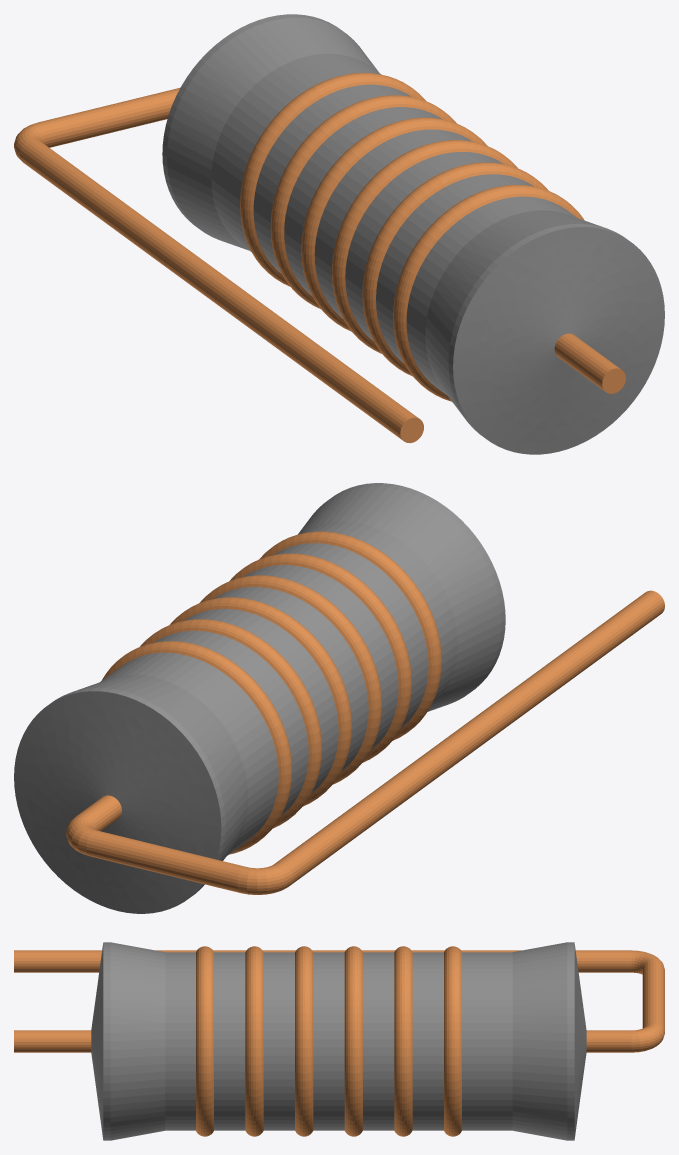
The model's file is L_Axial_L20.0mm_D8.0mm_P7.62mm_Vertical.glb.
The picture shows the model from 3 angles, top to bottom: view 1: azimuth 30°, elevation 25°; view 2: azimuth 150°, elevation 25°; view 3: azimuth 270°, elevation 25°; orthographic projection. The views are drawn at different scales.
Parts seen in each view (by area): view 1: Shape_IndexedFaceSet.002, Shape_IndexedFaceSet.018, Shape_IndexedFaceSet.025, Shape_IndexedFaceSet.017, Shape_IndexedFaceSet.004, Shape_IndexedFaceSet.005, Shape_IndexedFaceSet.015, Shape_IndexedFaceSet.013, Shape_IndexedFaceSet.009, Shape_IndexedFaceSet.007, Shape_IndexedFaceSet.011, Shape_IndexedFaceSet.006 (+9 smaller); view 2: Shape_IndexedFaceSet.020, Shape_IndexedFaceSet.004, Shape_IndexedFaceSet.025, Shape_IndexedFaceSet.017, Shape_IndexedFaceSet.018, Shape_IndexedFaceSet.015, Shape_IndexedFaceSet.007, Shape_IndexedFaceSet.009, Shape_IndexedFaceSet.013, Shape_IndexedFaceSet.011, Shape_IndexedFaceSet.005, Shape_IndexedFaceSet.016 (+11 smaller); view 3: Shape_IndexedFaceSet.004, Shape_IndexedFaceSet.018, Shape_IndexedFaceSet.017, Shape_IndexedFaceSet.007, Shape_IndexedFaceSet.009, Shape_IndexedFaceSet.011, Shape_IndexedFaceSet.013, Shape_IndexedFaceSet.015, Shape_IndexedFaceSet.005, Shape_IndexedFaceSet.025, Shape_IndexedFaceSet.008, Shape_IndexedFaceSet.014 (+13 smaller).
Boxes of the visible parts, x1=… form: Shape_IndexedFaceSet.002: x1=453, y1=227, x2=664, y2=454; Shape_IndexedFaceSet.018: x1=167, y1=17, x2=378, y2=250; Shape_IndexedFaceSet.025: x1=19, y1=139, x2=419, y2=440; Shape_IndexedFaceSet.017: x1=211, y1=53, x2=381, y2=251; Shape_IndexedFaceSet.004: x1=425, y1=210, x2=603, y2=416; Shape_IndexedFaceSet.005: x1=406, y1=196, x2=576, y2=394; Shape_IndexedFaceSet.015: x1=253, y1=84, x2=411, y2=273; Shape_IndexedFaceSet.013: x1=284, y1=107, x2=442, y2=296; Shape_IndexedFaceSet.009: x1=345, y1=152, x2=503, y2=341; Shape_IndexedFaceSet.007: x1=376, y1=174, x2=533, y2=363; Shape_IndexedFaceSet.011: x1=314, y1=129, x2=472, y2=318; Shape_IndexedFaceSet.006: x1=393, y1=185, x2=584, y2=401; Shape_IndexedFaceSet.020: x1=14, y1=691, x2=221, y2=913; Shape_IndexedFaceSet.004: x1=298, y1=486, x2=501, y2=711; Shape_IndexedFaceSet.025: x1=275, y1=590, x2=664, y2=885; Shape_IndexedFaceSet.017: x1=100, y1=652, x2=278, y2=855; Shape_IndexedFaceSet.018: x1=73, y1=675, x2=248, y2=860; Shape_IndexedFaceSet.015: x1=154, y1=630, x2=308, y2=815; Shape_IndexedFaceSet.007: x1=273, y1=543, x2=428, y2=727; Shape_IndexedFaceSet.009: x1=243, y1=565, x2=398, y2=749; Shape_IndexedFaceSet.013: x1=184, y1=609, x2=338, y2=793; Shape_IndexedFaceSet.011: x1=214, y1=587, x2=368, y2=771; Shape_IndexedFaceSet.005: x1=304, y1=521, x2=457, y2=705; Shape_IndexedFaceSet.016: x1=102, y1=641, x2=291, y2=854; Shape_IndexedFaceSet.004: x1=110, y1=942, x2=165, y2=1140; Shape_IndexedFaceSet.018: x1=512, y1=942, x2=567, y2=1140; Shape_IndexedFaceSet.017: x1=462, y1=952, x2=512, y2=1130; Shape_IndexedFaceSet.007: x1=214, y1=952, x2=245, y2=1130; Shape_IndexedFaceSet.009: x1=263, y1=952, x2=294, y2=1130; Shape_IndexedFaceSet.011: x1=313, y1=952, x2=344, y2=1130; Shape_IndexedFaceSet.013: x1=363, y1=952, x2=394, y2=1130; Shape_IndexedFaceSet.015: x1=412, y1=952, x2=443, y2=1130; Shape_IndexedFaceSet.005: x1=165, y1=952, x2=195, y2=1130; Shape_IndexedFaceSet.025: x1=14, y1=950, x2=631, y2=972; Shape_IndexedFaceSet.008: x1=245, y1=946, x2=263, y2=1136; Shape_IndexedFaceSet.014: x1=394, y1=946, x2=412, y2=1136.
Size of the model in its own units: 4.75 by 3.15 by 10.33.
